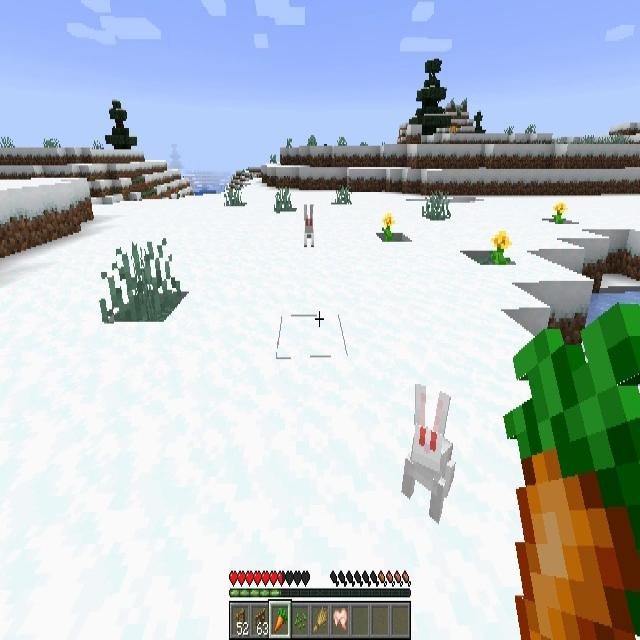flower: (491, 232, 511, 265), (380, 212, 396, 242), (552, 203, 568, 224)
rabbit: (401, 384, 455, 525), (303, 205, 315, 248)
